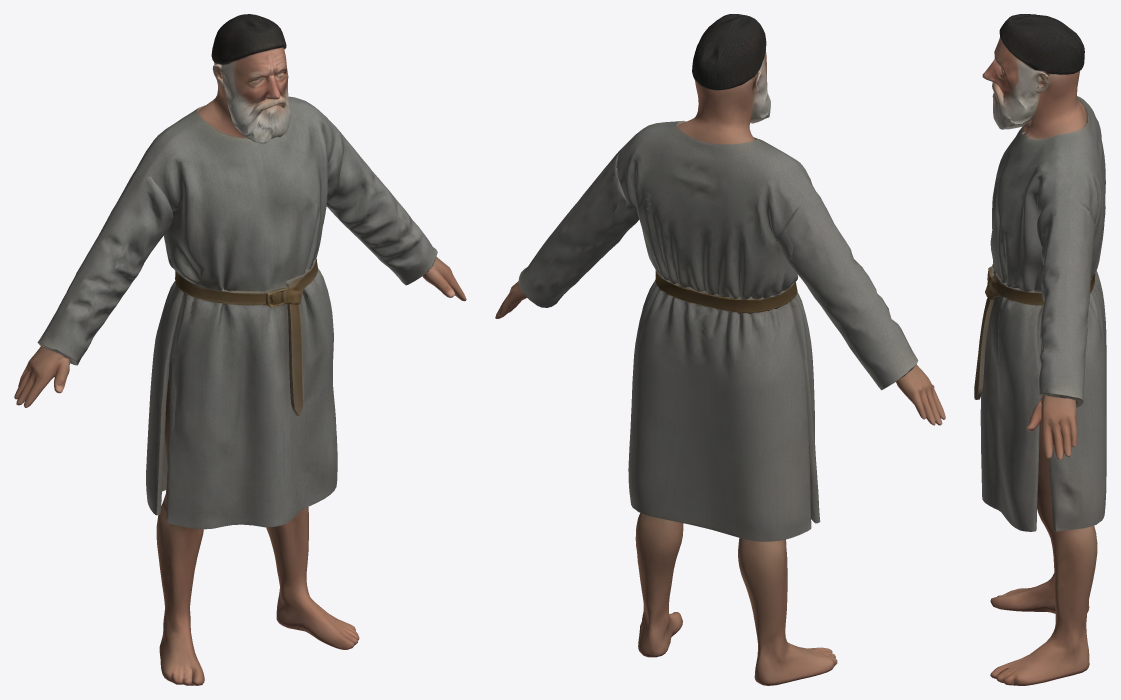
The model's file is israelite_kippa_5.glb.
The picture shows the model from 3 angles, left to right: view 1: azimuth 30°, elevation 25°; view 2: azimuth 150°, elevation 25°; view 3: azimuth 270°, elevation 25°; orthographic projection.
Visible parts, largest first — view 1: Mesh; view 2: Mesh; view 3: Mesh.
Part boxes in pixels (left/top/right/bottom): Mesh: left=14, top=14, right=466, bottom=685; Mesh: left=495, top=14, right=945, bottom=685; Mesh: left=974, top=14, right=1106, bottom=685.
Bounding box in the file's own units: 1.39 × 1.89 × 0.3638.
Materials: 1 (1 with a texture image).
